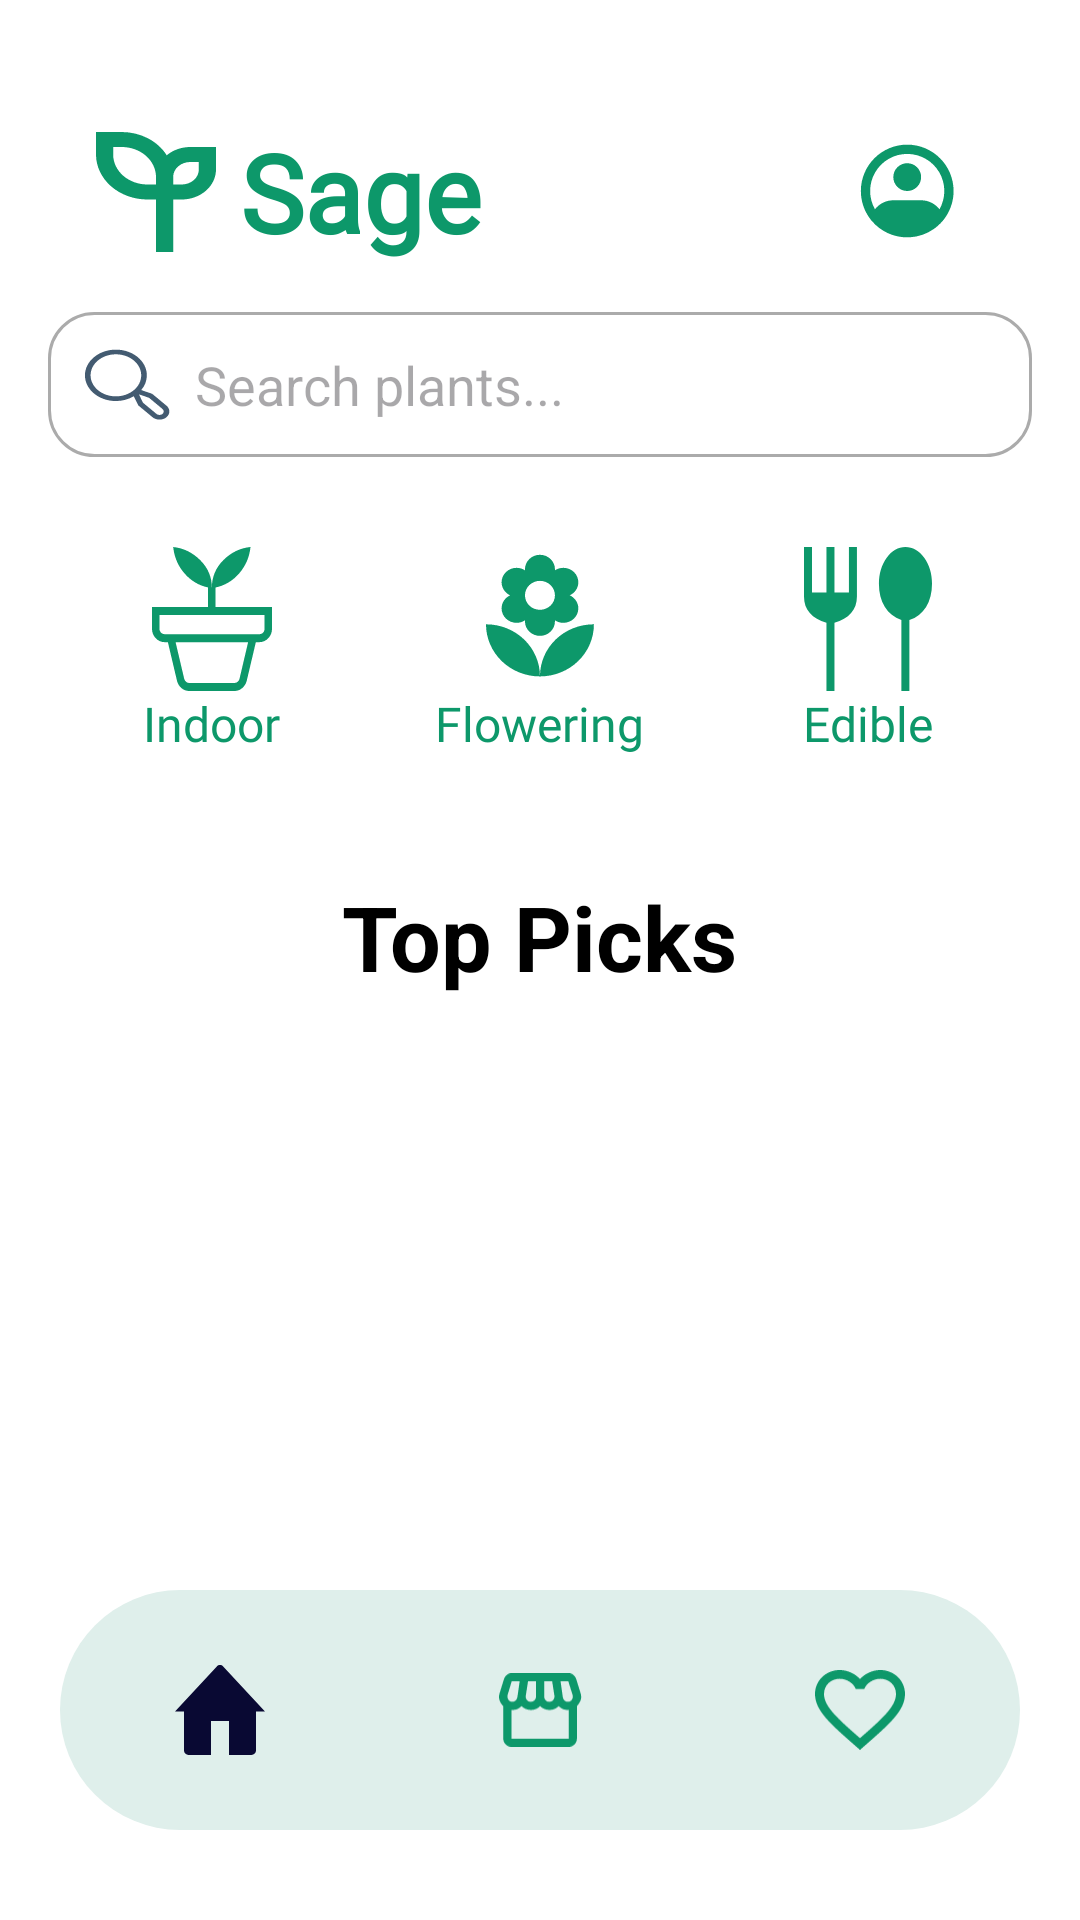

Point at icon controls on the screen. Image size 1080*1920, points as (x,y).
profile: (907,191)
